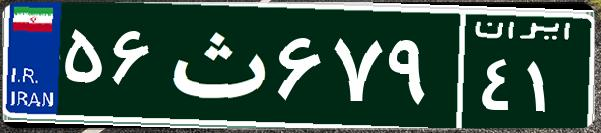1: (525, 38, 570, 115)
4: (475, 38, 525, 113)
5: (57, 26, 110, 107)
6: (273, 28, 330, 110), (110, 28, 158, 105)
7: (330, 28, 385, 110)
9: (385, 28, 445, 110)
ث: (158, 15, 273, 115)
